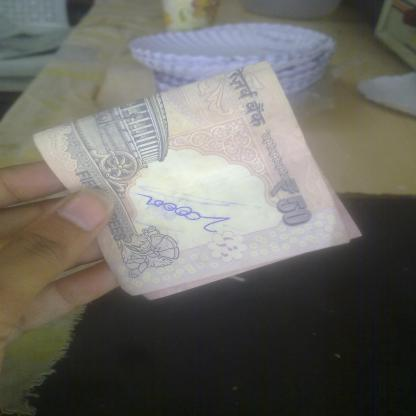Old50Back: (33, 60, 362, 300)
